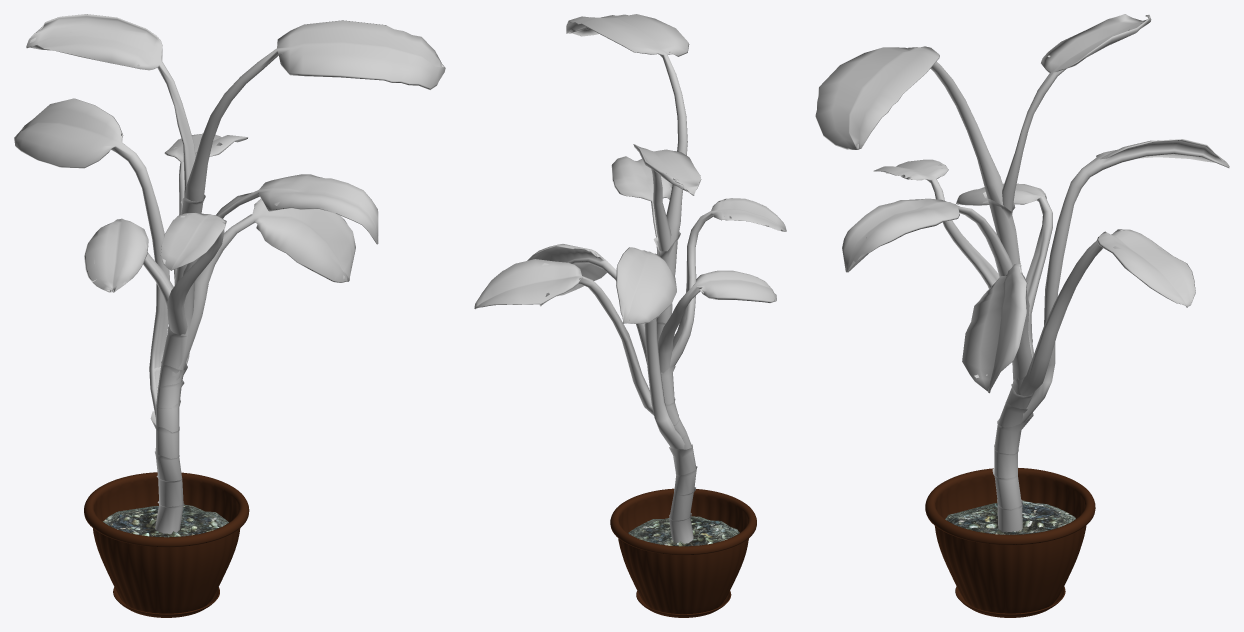
Rendered from plant.obj.
The picture shows the model from 3 angles, left to right: view 1: azimuth 30°, elevation 25°; view 2: azimuth 150°, elevation 25°; view 3: azimuth 270°, elevation 25°; orthographic projection. The views are drawn at different scales.
Visible parts, largest first — view 1: Plant_Mesh.001, Flowerpot_Cylinder.001, Terrain_Cylinder; view 2: Plant_Mesh.001, Flowerpot_Cylinder.001, Terrain_Cylinder; view 3: Plant_Mesh.001, Flowerpot_Cylinder.001, Terrain_Cylinder.
Boxes of the visible parts, x1,y1,x2,y2 form: Plant_Mesh.001: (14, 14, 445, 533); Flowerpot_Cylinder.001: (84, 472, 249, 617); Terrain_Cylinder: (103, 504, 228, 537); Plant_Mesh.001: (474, 14, 786, 543); Flowerpot_Cylinder.001: (610, 488, 756, 617); Terrain_Cylinder: (628, 516, 739, 546); Plant_Mesh.001: (815, 14, 1229, 532); Flowerpot_Cylinder.001: (925, 468, 1095, 617); Terrain_Cylinder: (945, 500, 1075, 534).
Size of the model in its own units: 0.7227 by 1.36 by 0.8571.
